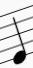note: (7, 8, 28, 65)
